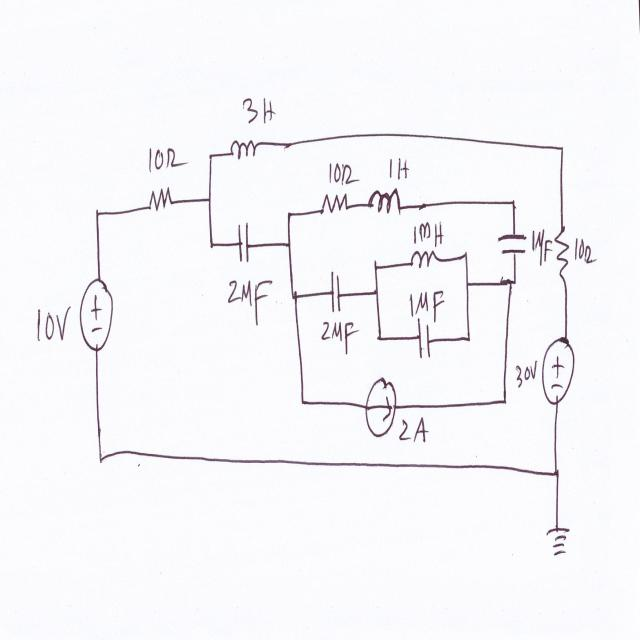capacitor: (496, 225, 530, 262), (328, 262, 344, 324), (233, 222, 254, 269), (416, 315, 432, 365)
current_source: (364, 373, 401, 448)
ground: (543, 511, 572, 563)
inductor: (225, 133, 269, 171), (365, 184, 404, 220), (407, 240, 442, 279)
resistor: (146, 178, 183, 234), (552, 216, 572, 285), (319, 189, 355, 222)
voltage_source: (76, 267, 116, 355), (538, 331, 576, 415)
